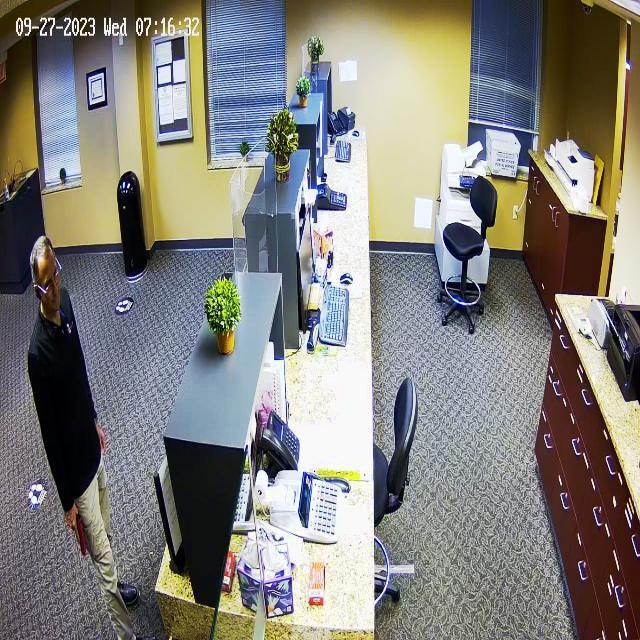Gun: (60, 505, 92, 564)
